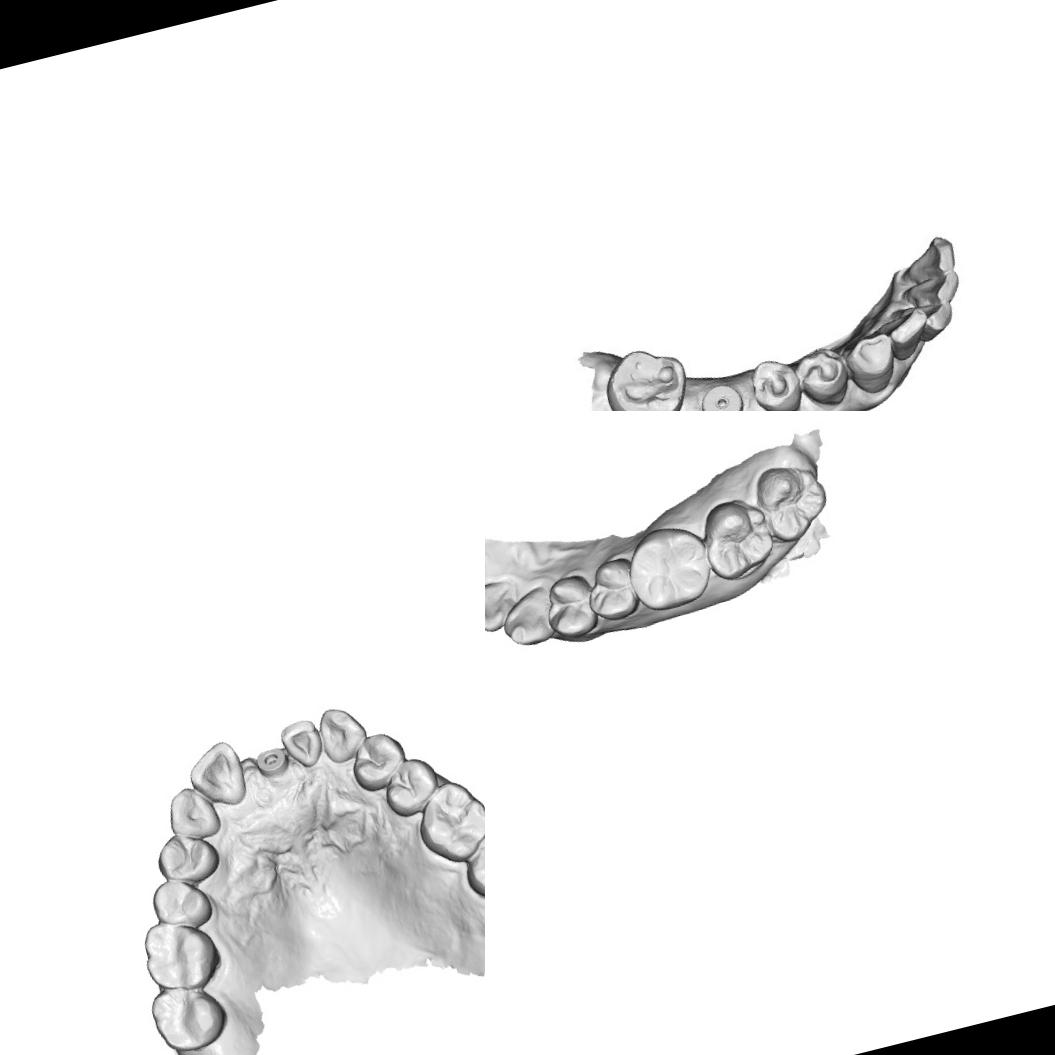canine: (493, 583, 560, 652), (842, 328, 902, 398), (161, 780, 223, 846), (312, 700, 372, 765)
implant: (693, 377, 749, 411), (252, 743, 290, 779)
incisor: (182, 736, 250, 814), (892, 230, 962, 286), (882, 303, 934, 365), (276, 715, 327, 772), (901, 268, 964, 310), (485, 575, 526, 639), (917, 292, 960, 337)
molar: (618, 517, 719, 617), (135, 910, 226, 1000), (750, 454, 836, 548), (595, 336, 698, 411), (695, 492, 778, 584), (409, 774, 485, 870), (145, 974, 232, 1055), (456, 823, 485, 907)
premolar: (150, 824, 224, 891), (578, 553, 645, 626), (789, 340, 857, 411), (538, 570, 603, 643), (145, 870, 216, 936), (344, 727, 412, 795), (377, 754, 444, 821), (741, 351, 804, 411)
